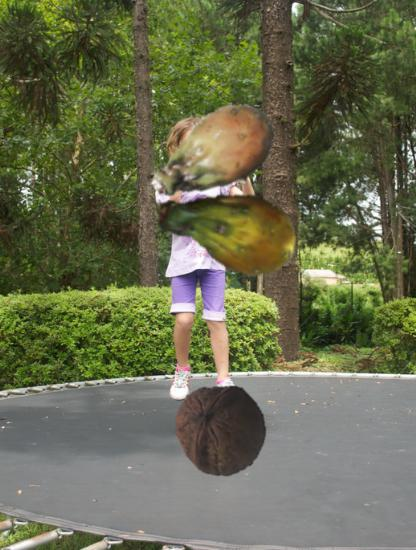Cactus: (156, 161, 298, 303), (143, 84, 280, 221)
Walnut: (173, 381, 269, 477)
